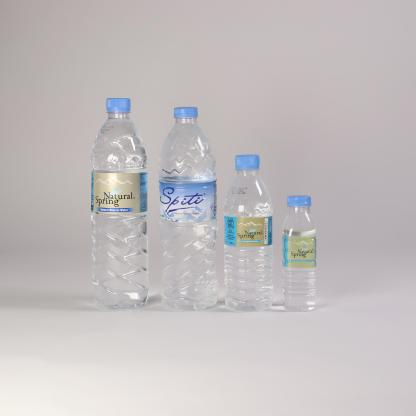Glass Bottle: (159, 107, 219, 311), (91, 98, 148, 310), (224, 154, 273, 312), (283, 195, 316, 312)
